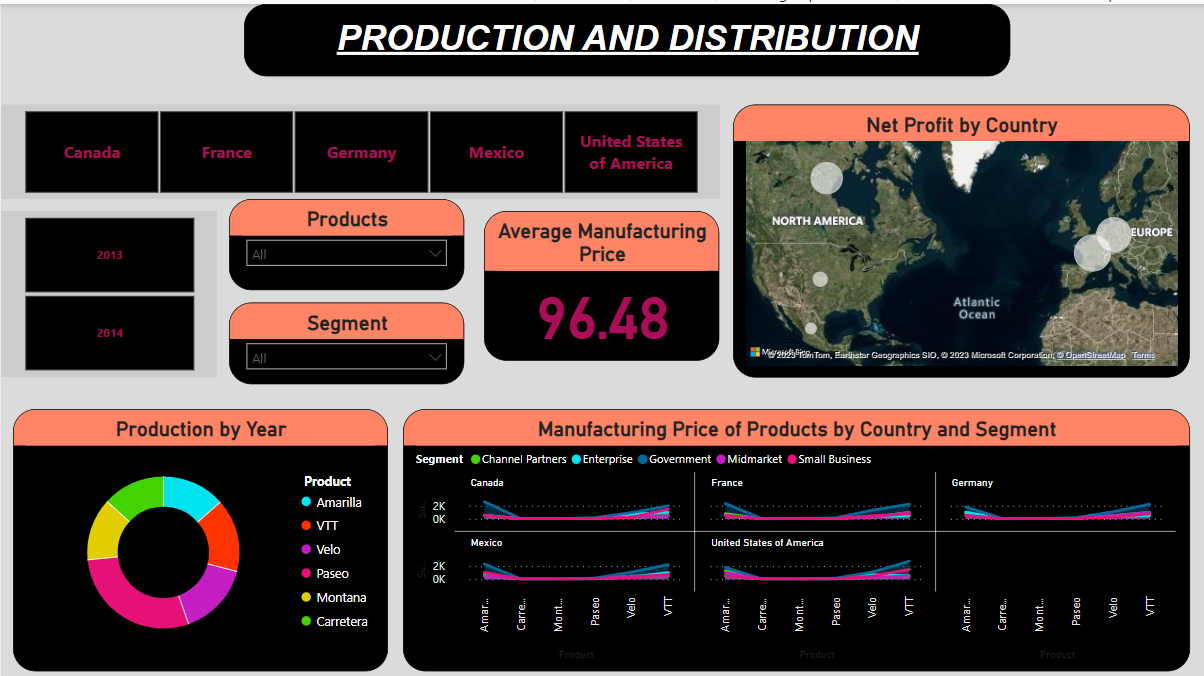

The dashboard page shown, as its layout file describes it:
{"tool":"powerbi","page":{"name":"Production & Distribution","canvas":[1280,720],"ordinal":0},"visuals":[{"type":"card","title":"Average Manufacturing Price","fields":{"Values":["financial sample dataset.Average Manufacturing Price"]},"box":[512.4,219.3,249.6,158.8],"z":0},{"type":"slicer","title":"Country","fields":{"Values":["financial sample dataset.Country"]},"box":[0,105.9,761.9,100.2],"z":1000},{"type":"slicer","title":"Segment","fields":{"Values":["financial sample dataset.Segment"]},"box":[242,315.7,249.6,87],"z":2000},{"type":"slicer","title":"Products","fields":{"Values":["financial sample dataset. Product "]},"box":[242,206.1,249.6,96.4],"z":3000},{"type":"areaChart","title":"Manufacturing Price of Products by Country and Segment","fields":{"Series":["financial sample dataset.Segment"],"Category":["financial sample dataset. Product "],"Rows":["financial sample dataset.Country"],"Y":["Sum(financial sample dataset. Manufacturing Price )"]},"box":[425.4,429.2,833.8,277.9],"z":4000},{"type":"donutChart","title":"Production by Year","fields":{"Category":["financial sample dataset. Product "],"Y":["financial sample dataset.Average Manufacturing Price","Sum(financial sample dataset.Year)"]},"box":[13.2,429.2,397,277.9],"z":5000},{"type":"map","fields":{"Category":["financial sample dataset.Country"],"Size":["financial sample dataset.Net Profit"]},"box":[775.2,105.9,484,289.3],"z":6000},{"type":"textbox","box":[257.2,0,811.8,76.8],"z":7000},{"type":"slicer","fields":{"Values":["financial sample dataset.Year"]},"box":[0,219.3,228.8,175.8],"z":8000}]}

Visuals, with their boxes in screenshot pixels (x1, y1, x2, y2), scaled from the page's 1280x720 canvas onto the 1204x676 screenshot:
"Average Manufacturing Price" card: bbox(482, 206, 717, 355)
"Country" slicer: bbox(0, 99, 717, 194)
"Segment" slicer: bbox(228, 296, 462, 378)
"Products" slicer: bbox(228, 194, 462, 284)
"Manufacturing Price of Products by Country and Segment" areaChart: bbox(400, 403, 1184, 664)
"Production by Year" donutChart: bbox(12, 403, 386, 664)
map - financial sample dataset.Country x financial sample dataset.Net Profit: bbox(729, 99, 1184, 371)
textbox: bbox(242, 0, 1006, 72)
slicer - financial sample dataset.Year: bbox(0, 206, 215, 371)
